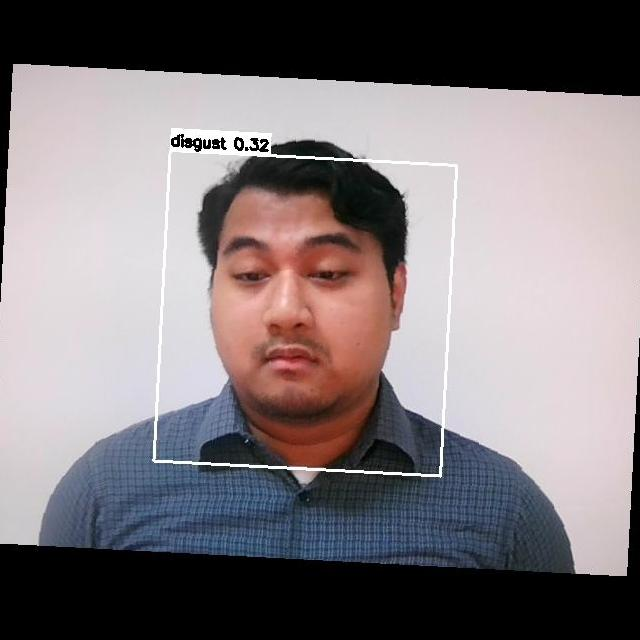Fear: (199, 211, 405, 397)
